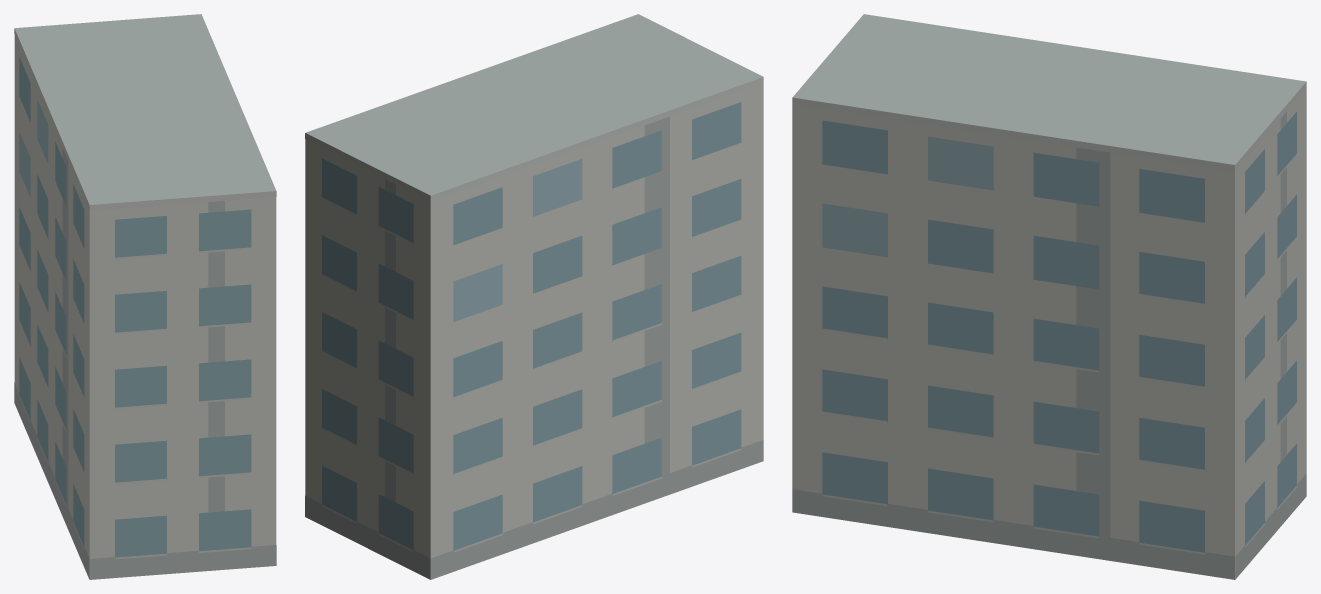
The model's file is residential-15749a30-c1c2-4171-8eab-2613aad1fd4f.glb.
The picture shows the model from 3 angles, left to right: view 1: azimuth 30°, elevation 25°; view 2: azimuth 150°, elevation 25°; view 3: azimuth 270°, elevation 25°; orthographic projection. The views are drawn at different scales.
Visible parts, largest first — view 1: residential-15749a30-c1c2-4171-8eab-2613aad1fd4f.tmp; view 2: residential-15749a30-c1c2-4171-8eab-2613aad1fd4f.tmp; view 3: residential-15749a30-c1c2-4171-8eab-2613aad1fd4f.tmp.
Part boxes in pixels (x1,y1,x2,y2): residential-15749a30-c1c2-4171-8eab-2613aad1fd4f.tmp: (14,14,276,579); residential-15749a30-c1c2-4171-8eab-2613aad1fd4f.tmp: (305,14,763,579); residential-15749a30-c1c2-4171-8eab-2613aad1fd4f.tmp: (792,14,1306,579).
Bounding box in the file's own units: 11.92 × 15.25 × 17.14.
